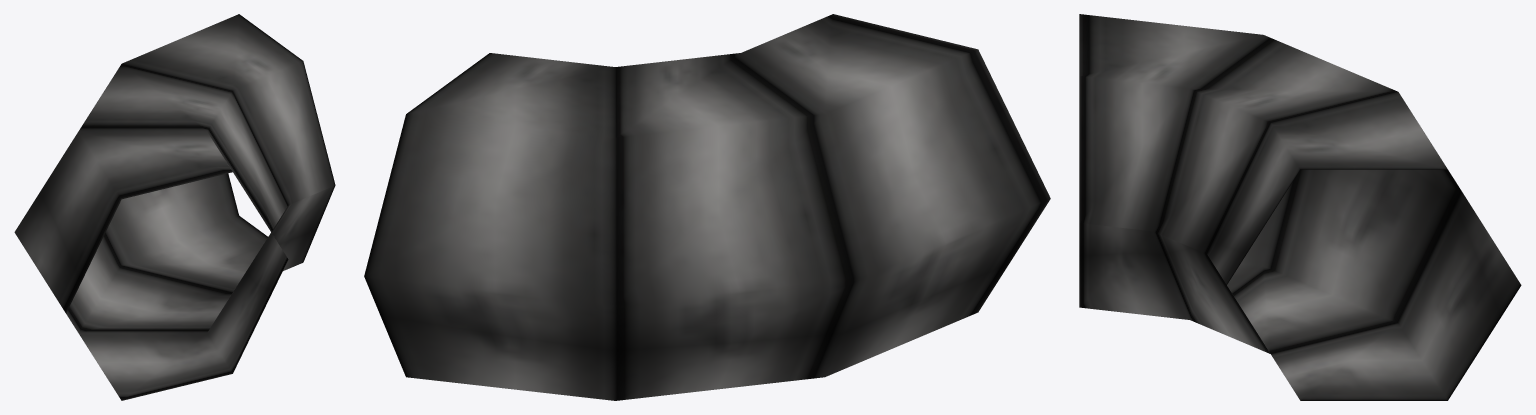
The model's file is small_ribbed_2_elbow_hz.fbx.
3 renders of one model, left to right at view 1: azimuth 30°, elevation 25°; view 2: azimuth 150°, elevation 25°; view 3: azimuth 270°, elevation 25°, orthographic. The views are drawn at different scales.
Visible parts, largest first — view 1: allPipes:pTorus17; view 2: allPipes:pTorus17; view 3: allPipes:pTorus17.
Part boxes in pixels (box(x1,y1,x2,y2)): allPipes:pTorus17: box(14, 14, 335, 400); allPipes:pTorus17: box(364, 14, 1050, 400); allPipes:pTorus17: box(1079, 14, 1521, 400).
Bounding box in the file's own units: 0.375 × 0.2165 × 0.375.
